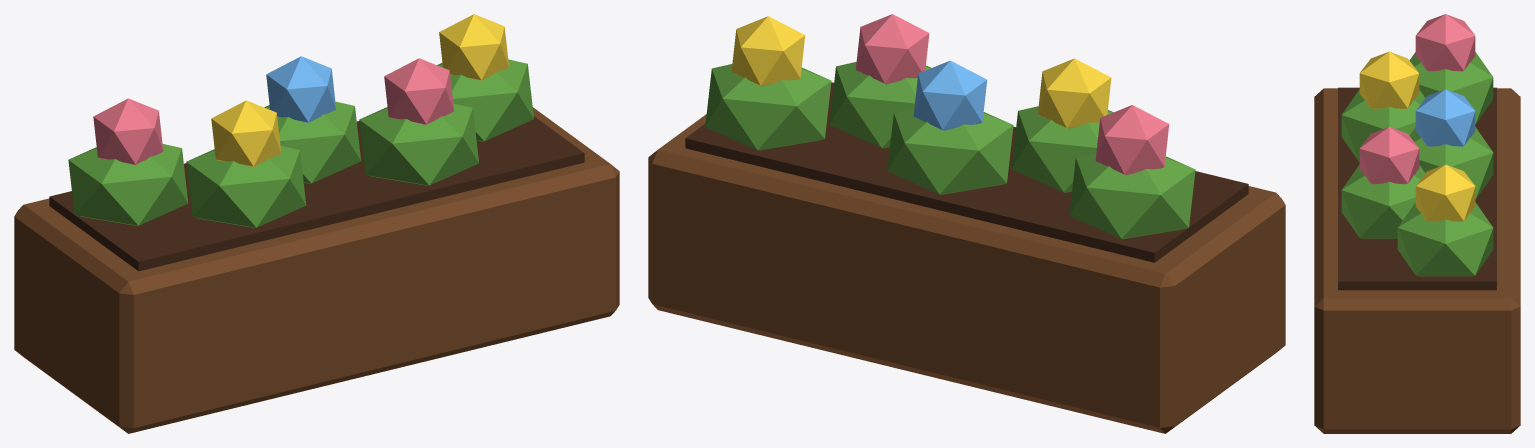
File: flower_box.glb
3 views of the same model, side by side, from view 1: azimuth 30°, elevation 25°; view 2: azimuth 150°, elevation 25°; view 3: azimuth 270°, elevation 25° (orthographic). The views are drawn at different scales.
Visible parts, largest first — view 1: box_body, box_soil, bush_3, bush_1, bush_0, bush_2, bush_4, bloom_1, bloom_3, bloom_0, bloom_2, bloom_4; view 2: box_body, box_soil, bush_2, bush_4, bush_0, bush_1, bush_3, bloom_0, bloom_4, bloom_2, bloom_1, bloom_3; view 3: box_body, box_soil, bush_4, bush_3, bloom_2, bloom_0, bloom_4, bloom_3, bloom_1, bush_2, bush_1, bush_0.
Part boxes in pixels (x1,y1,x2,y2): box_body: (14,107,619,433); box_soil: (49,116,584,271); bush_3: (359,103,478,185); bush_1: (186,146,306,227); bush_0: (68,144,188,225); bush_2: (264,101,361,183); bush_4: (437,59,533,141); bloom_1: (211,100,281,167); bloom_3: (384,58,453,124); bloom_0: (93,98,163,165); bloom_2: (266,56,336,122); bloom_4: (439,14,508,80); box_body: (648,114,1285,433); box_soil: (685,82,1248,262); bush_2: (887,108,1013,194); bush_4: (705,64,831,150); bush_0: (1069,153,1195,239); bush_1: (1011,106,1113,192); bush_3: (829,62,931,148); bloom_0: (1095,105,1169,175); bloom_4: (731,16,805,86); bloom_2: (913,60,987,130); bloom_1: (1037,58,1111,128); bloom_3: (855,14,929,84); box_body: (1314,88,1520,433); box_soil: (1338,87,1496,290); bush_4: (1397,202,1493,276); bush_3: (1341,164,1425,238); bloom_2: (1415,89,1475,146); bloom_0: (1415,14,1475,71); bloom_4: (1415,164,1475,221); bloom_3: (1359,127,1419,184); bloom_1: (1359,51,1419,109); bush_2: (1409,127,1493,199); bush_1: (1341,89,1425,162); bush_0: (1409,52,1493,124).
Size of the model in its own units: 1.1 by 0.565 by 0.44.
